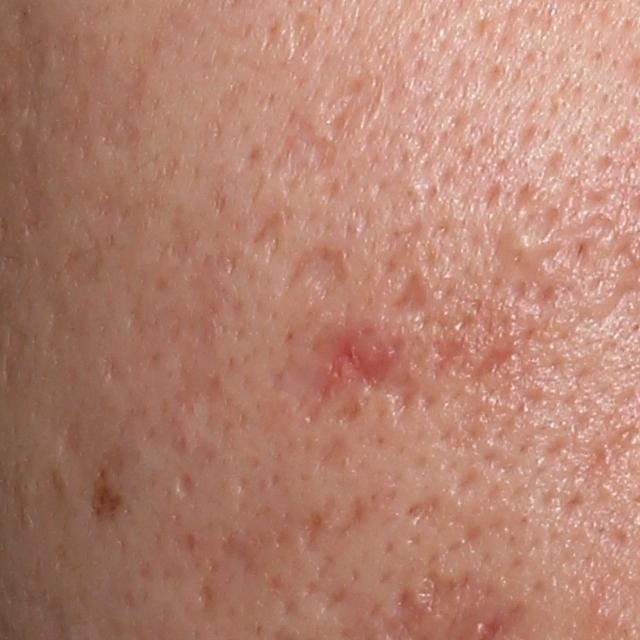atrophic_scar: (297, 320, 410, 417), (269, 116, 338, 196), (100, 54, 151, 162), (320, 71, 387, 141), (280, 242, 355, 304), (171, 347, 231, 419), (465, 341, 533, 391), (61, 231, 110, 291), (246, 204, 289, 265), (387, 267, 433, 316), (431, 332, 472, 380), (298, 505, 329, 556), (403, 491, 448, 523), (290, 11, 319, 58), (317, 434, 351, 472), (58, 422, 86, 458), (197, 572, 218, 612), (173, 467, 194, 500), (100, 350, 122, 381)
hypertrophic_scar: (490, 217, 561, 271)
melasma: (88, 475, 126, 522)
